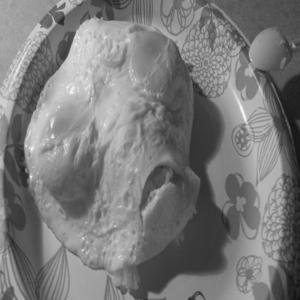omelet: (17, 24, 217, 265)
